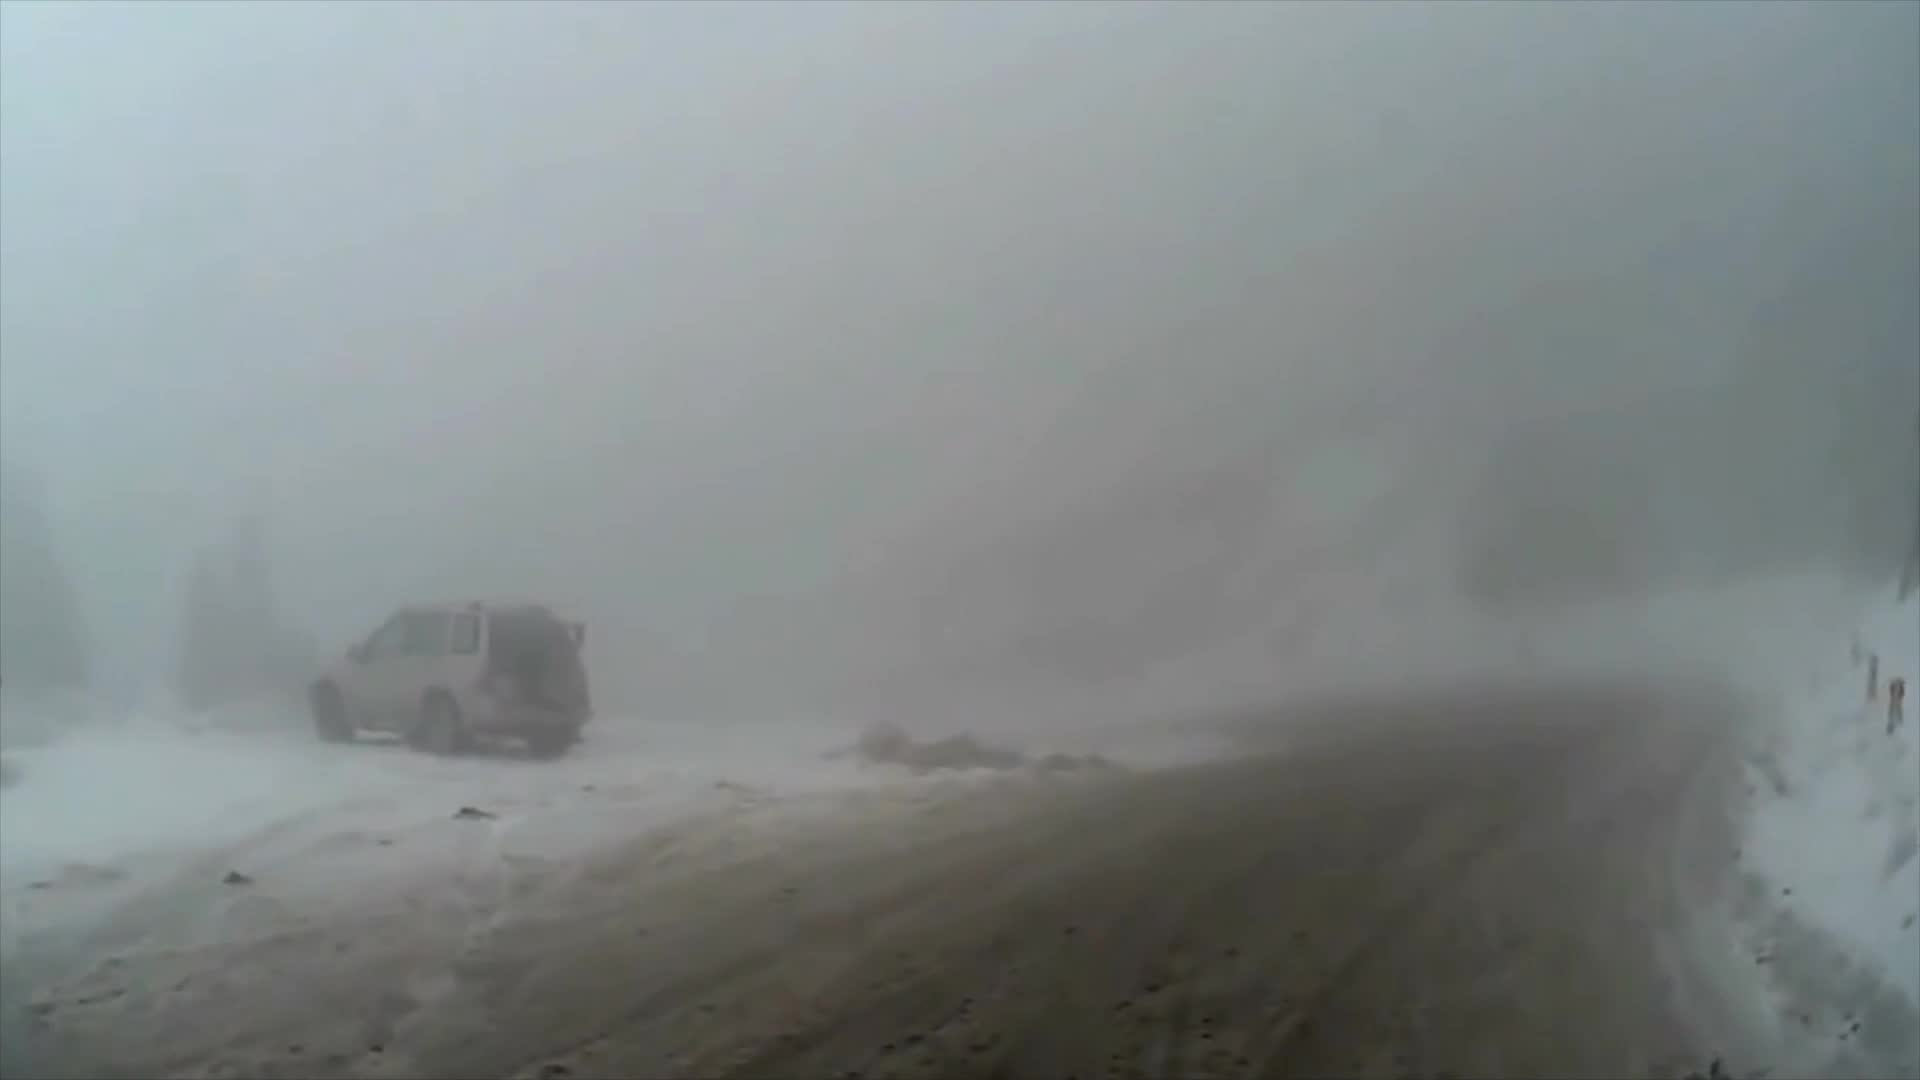vehicle: (301, 596, 585, 766)
